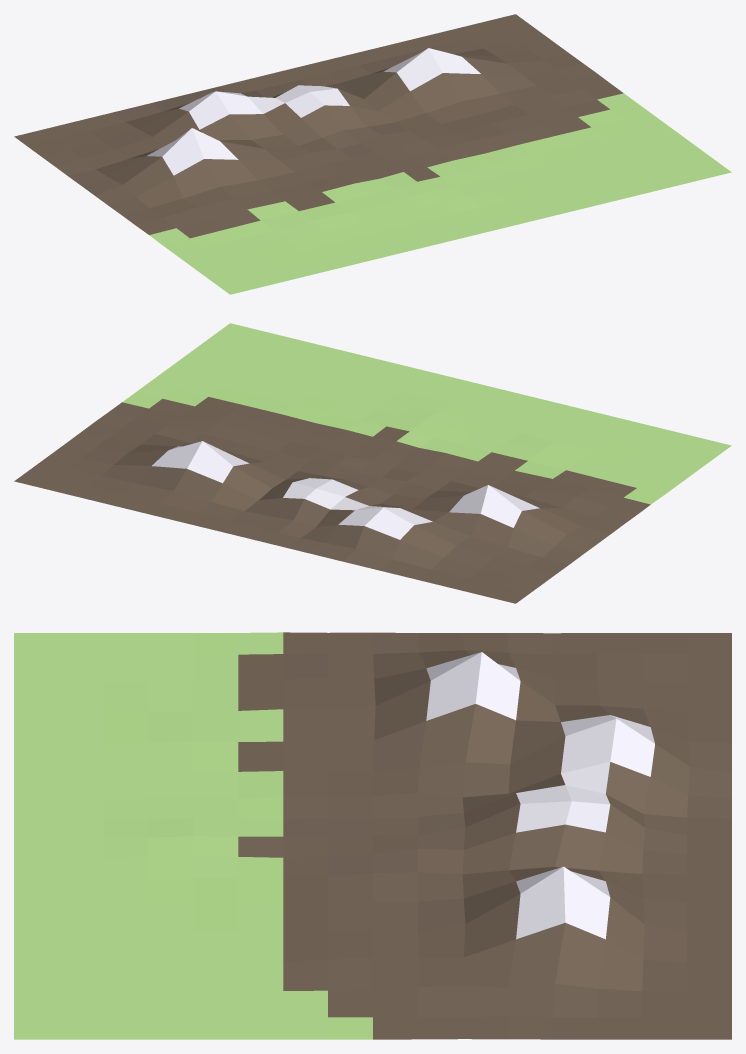
Rendered from mountain_small.glb.
3 views of the same model, one above another, from view 1: azimuth 30°, elevation 25°; view 2: azimuth 150°, elevation 25°; view 3: azimuth 270°, elevation 25° (orthographic). The views are drawn at different scales.
Parts seen in each view (by area): view 1: Sahne; view 2: Sahne; view 3: Sahne.
Part boxes in pixels (x1,y1,x2,y2): Sahne: (14,14,731,294); Sahne: (14,323,731,603); Sahne: (14,632,731,1039).
Bounding box in the file's own units: 53.6 × 3.97 × 40.
